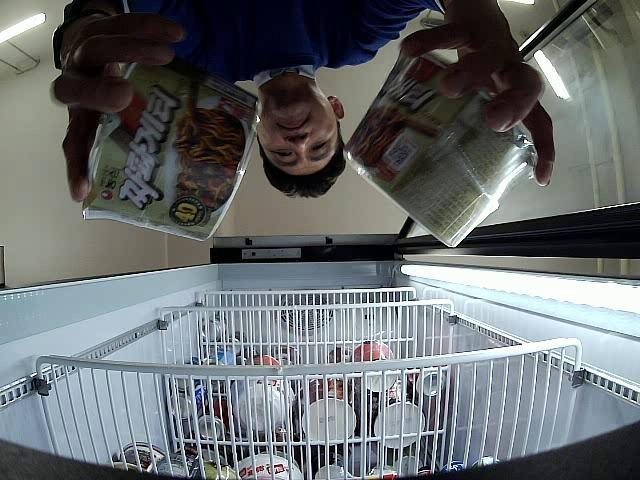03_chapagetti_L: (342, 54, 539, 247), (84, 66, 262, 240)
